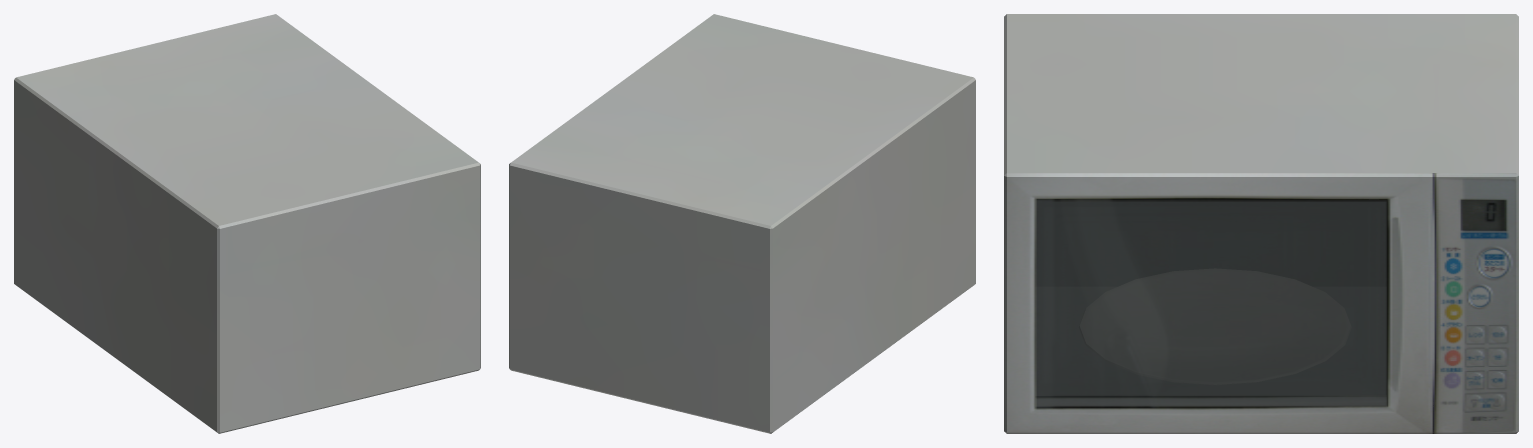
Rendered from ovenrange_A.fbx.
The picture shows the model from 3 angles, left to right: view 1: azimuth 30°, elevation 25°; view 2: azimuth 150°, elevation 25°; view 3: azimuth 270°, elevation 25°; orthographic projection. The views are drawn at different scales.
Parts seen in each view (by area): view 1: ovenrange_A; view 2: ovenrange_A; view 3: ovenrange_A.
Part boxes in pixels (x1,y1,x2,y2): ovenrange_A: [14, 14, 480, 433]; ovenrange_A: [509, 14, 975, 433]; ovenrange_A: [1004, 14, 1518, 433].
Bounding box in the file's own units: 33.45 × 25.19 × 45.06.
3 materials, 2 textured.
